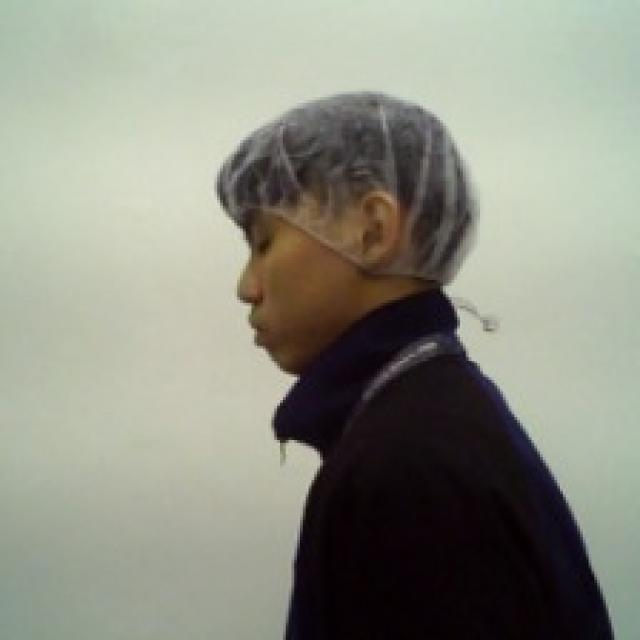gloves: (205, 84, 487, 282)
no_hairnet: (230, 169, 404, 386)
